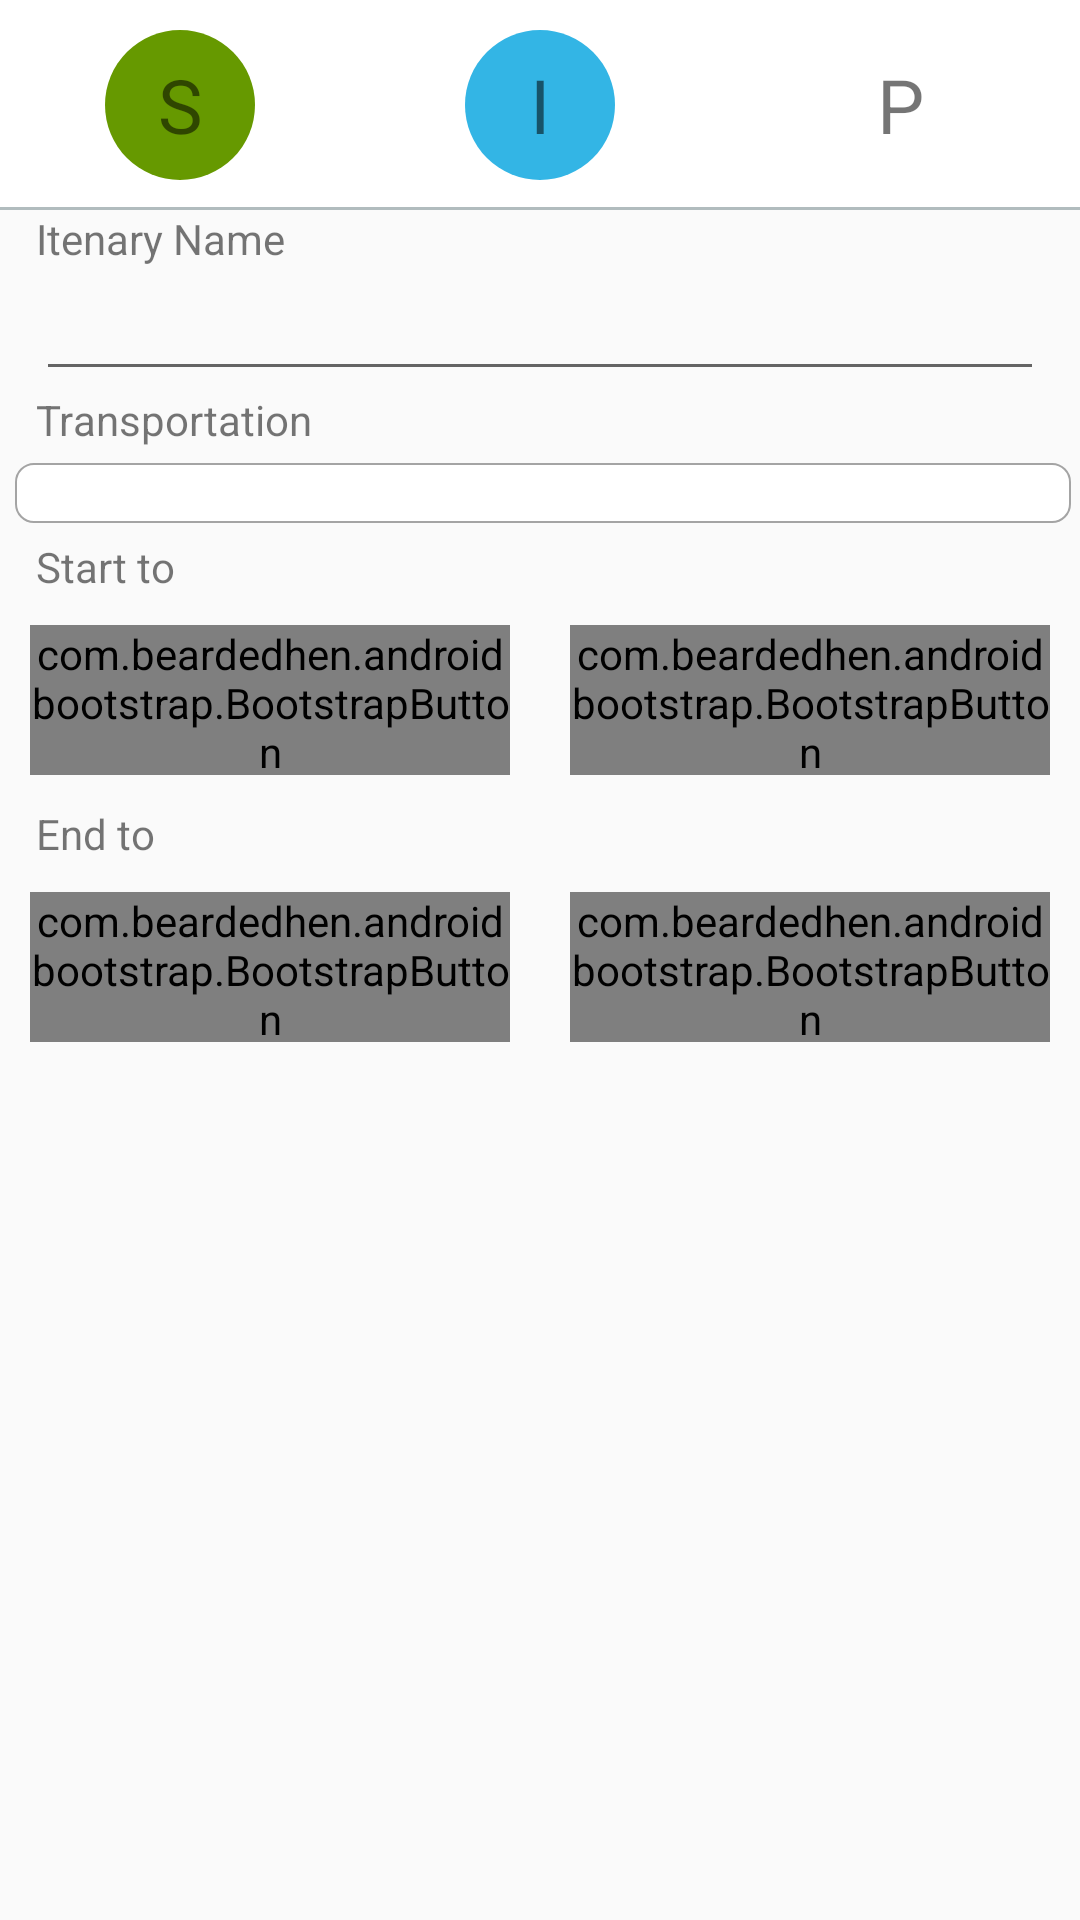

Where to tap for icons on this 1080*1920 app screen, as [x,y]:
circle: [180,105], [540,105]
